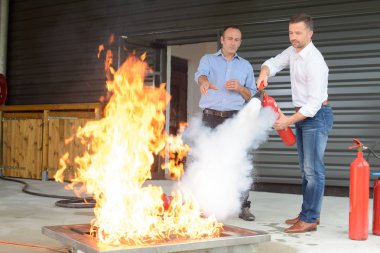fire: (80, 55, 177, 241), (56, 149, 71, 186)
